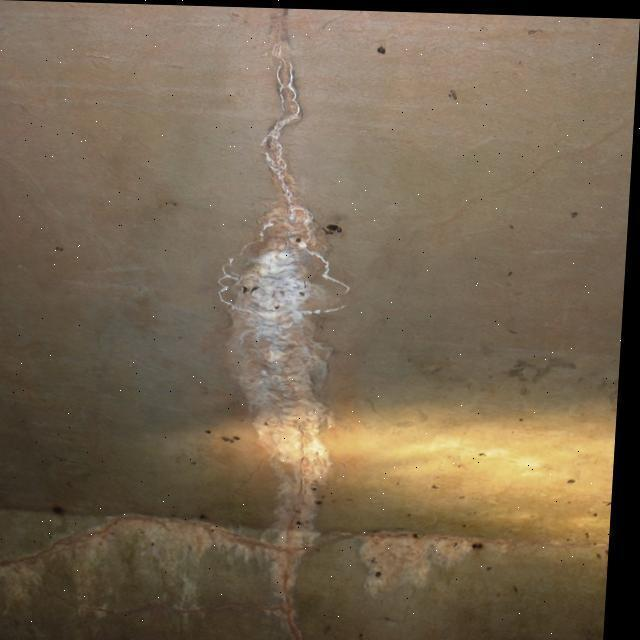D01: (266, 58, 309, 225), (250, 250, 309, 357)
